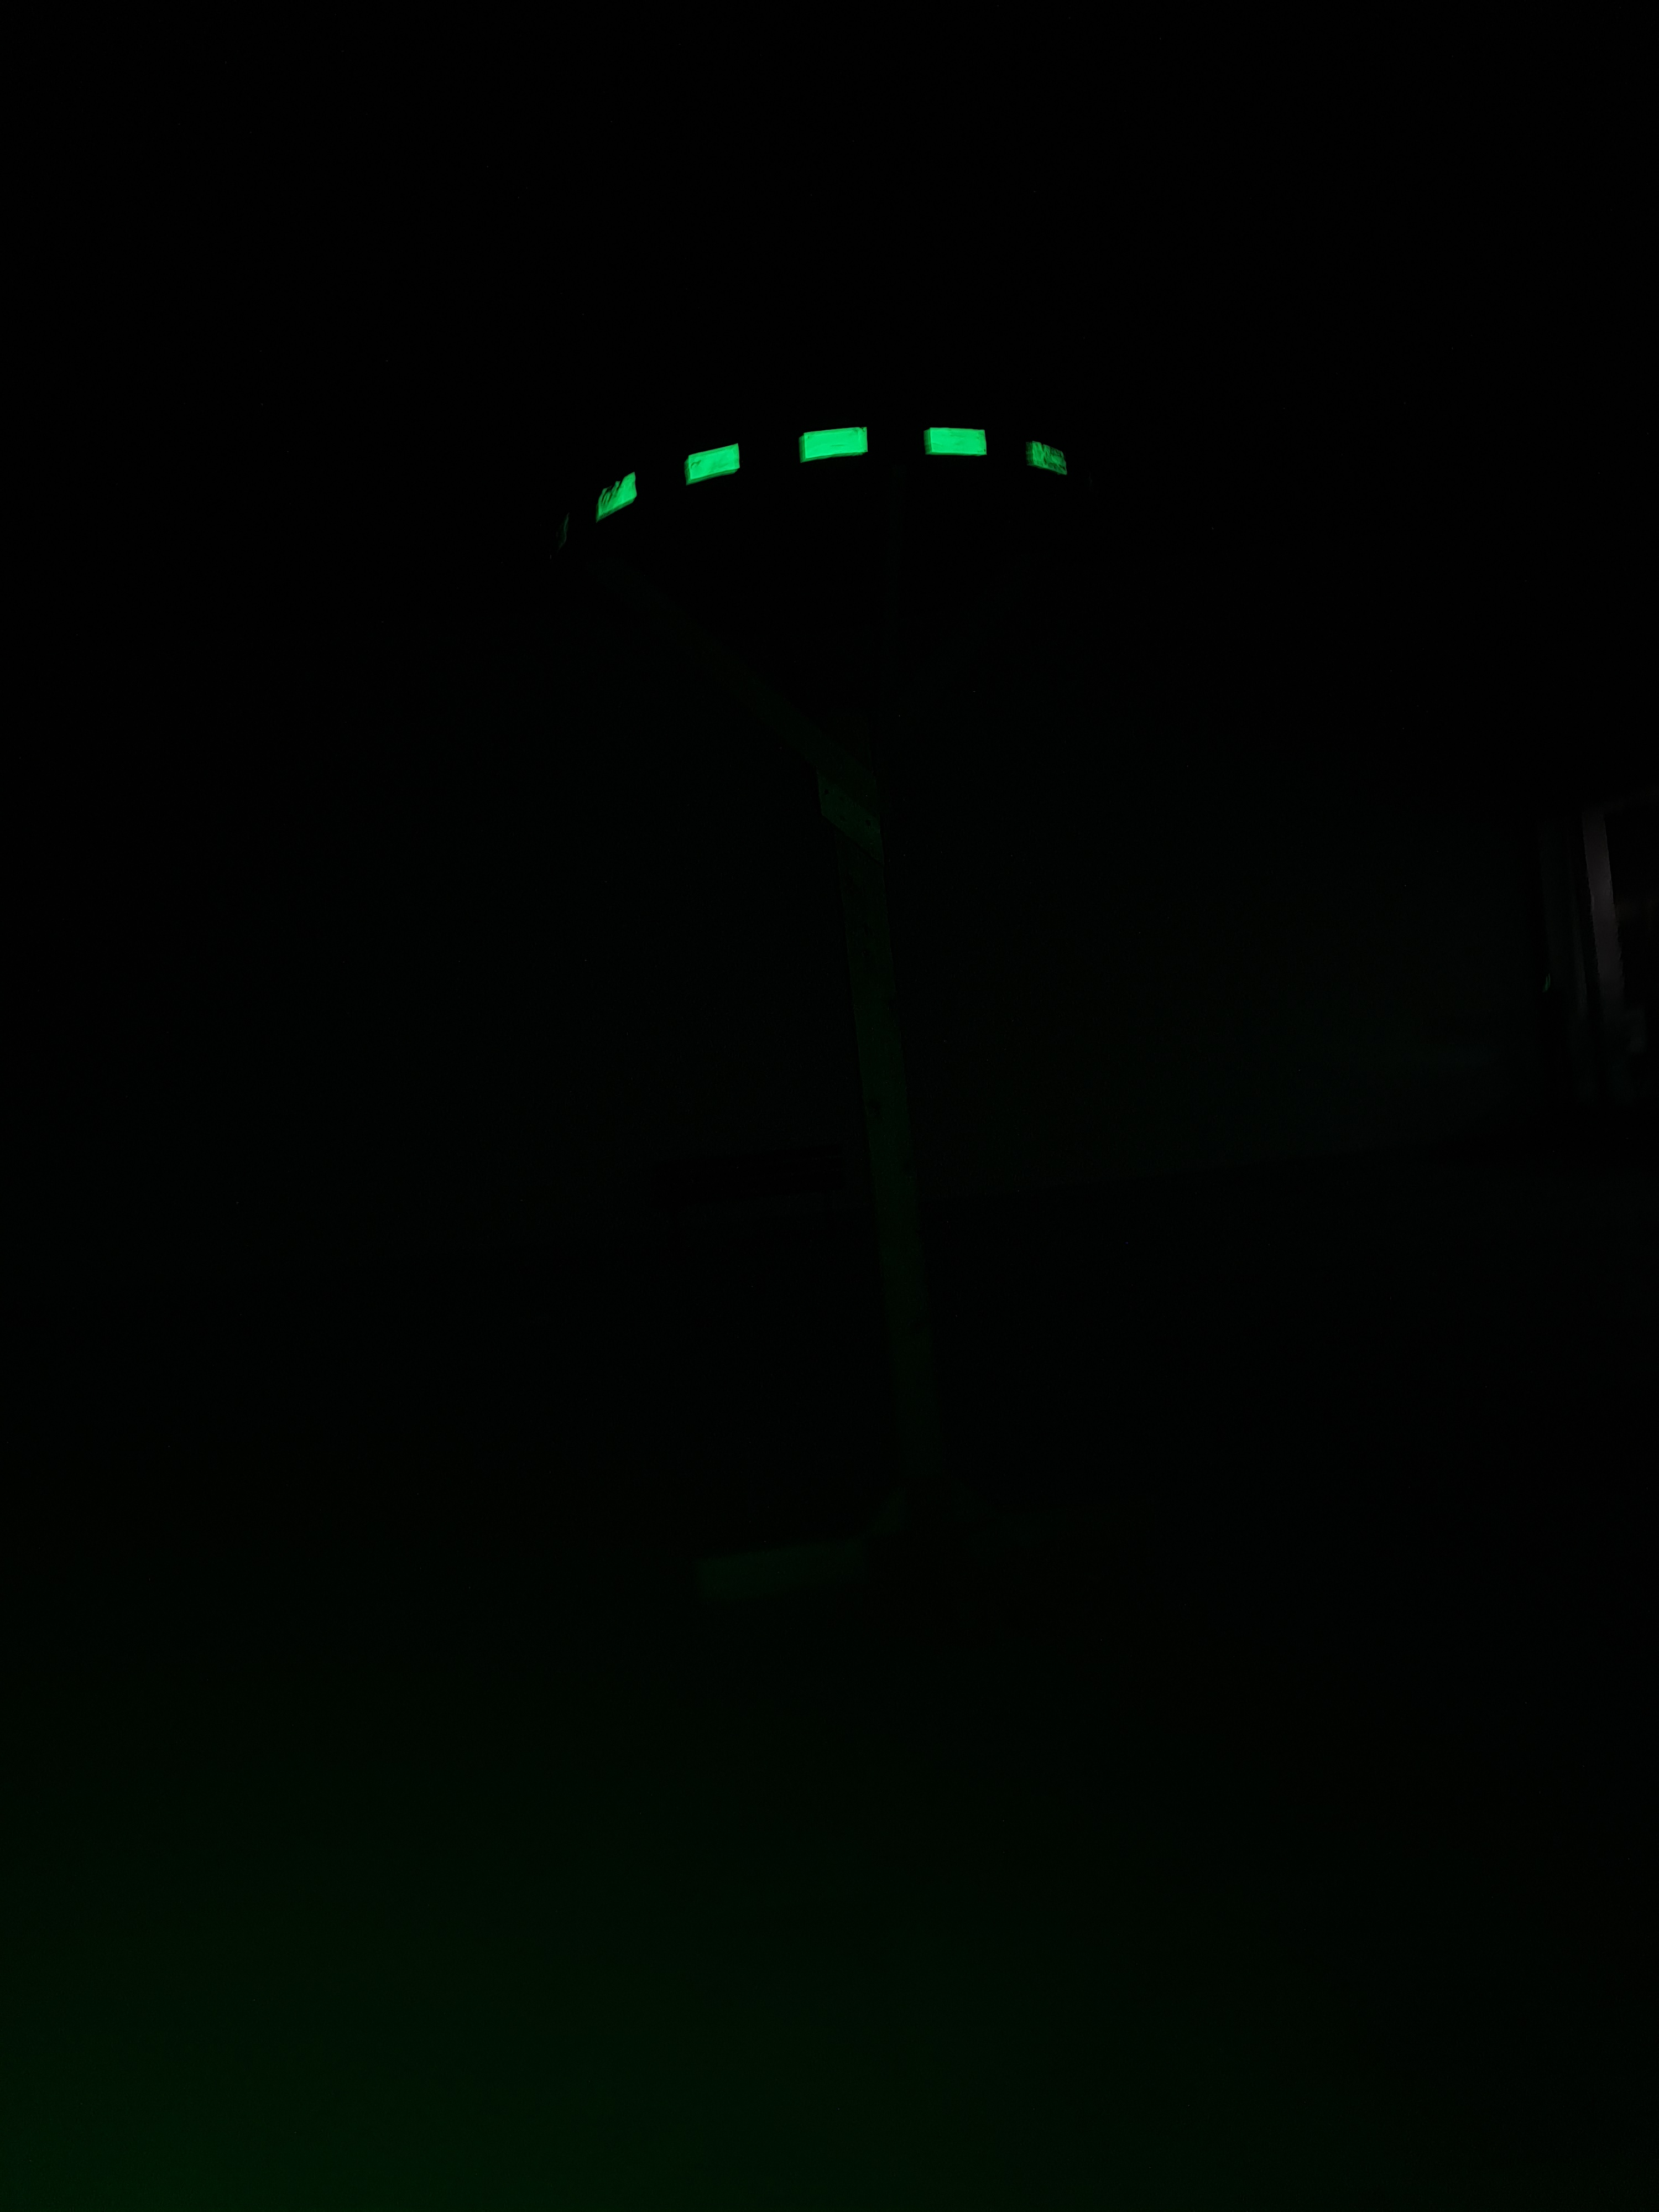hoop: (596, 425, 1066, 523)
